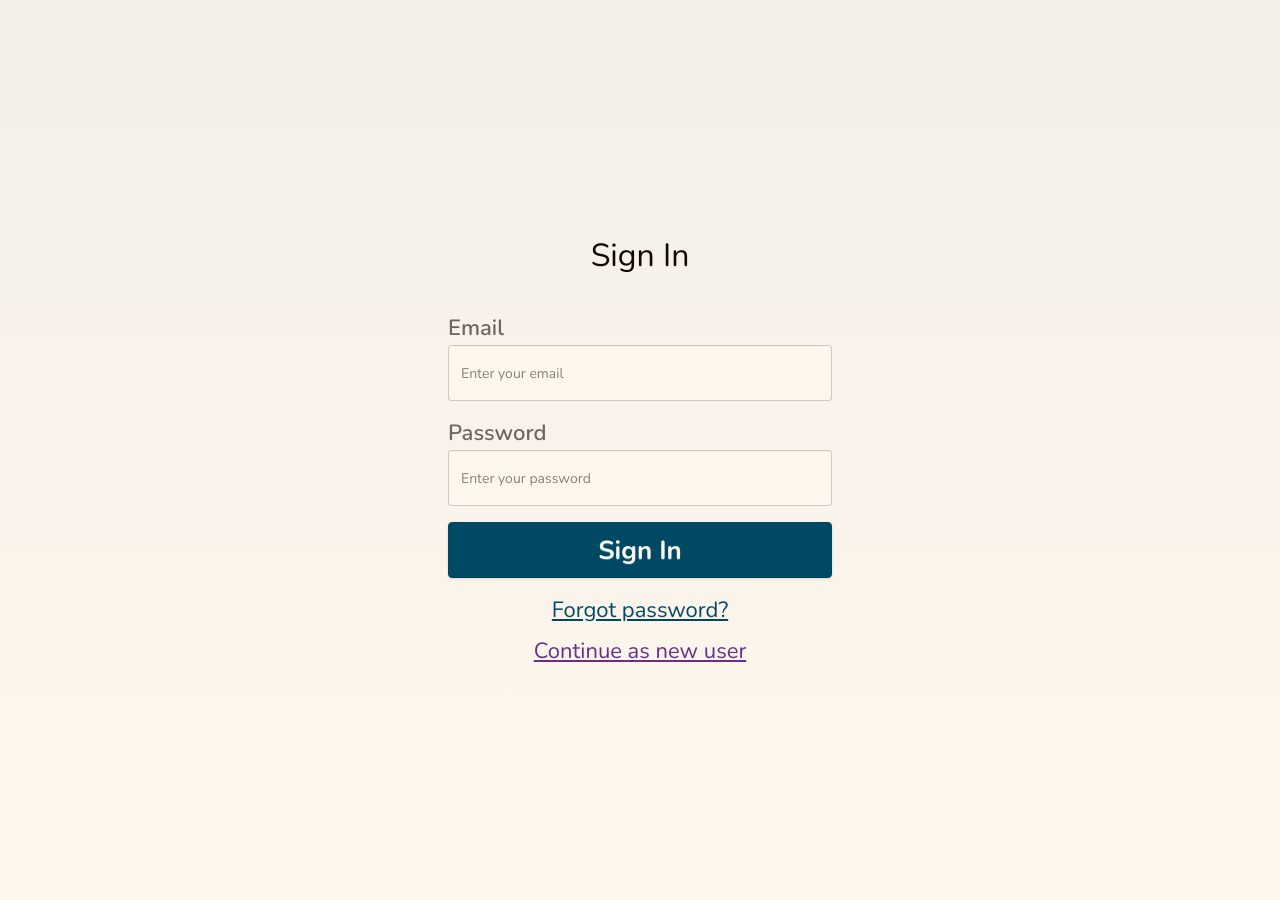
Test case: LoginForm › shows generic error for unknown errors
Type "test@example.com" into the field labelled "Email" at (640, 373), box [448,345,832,401]
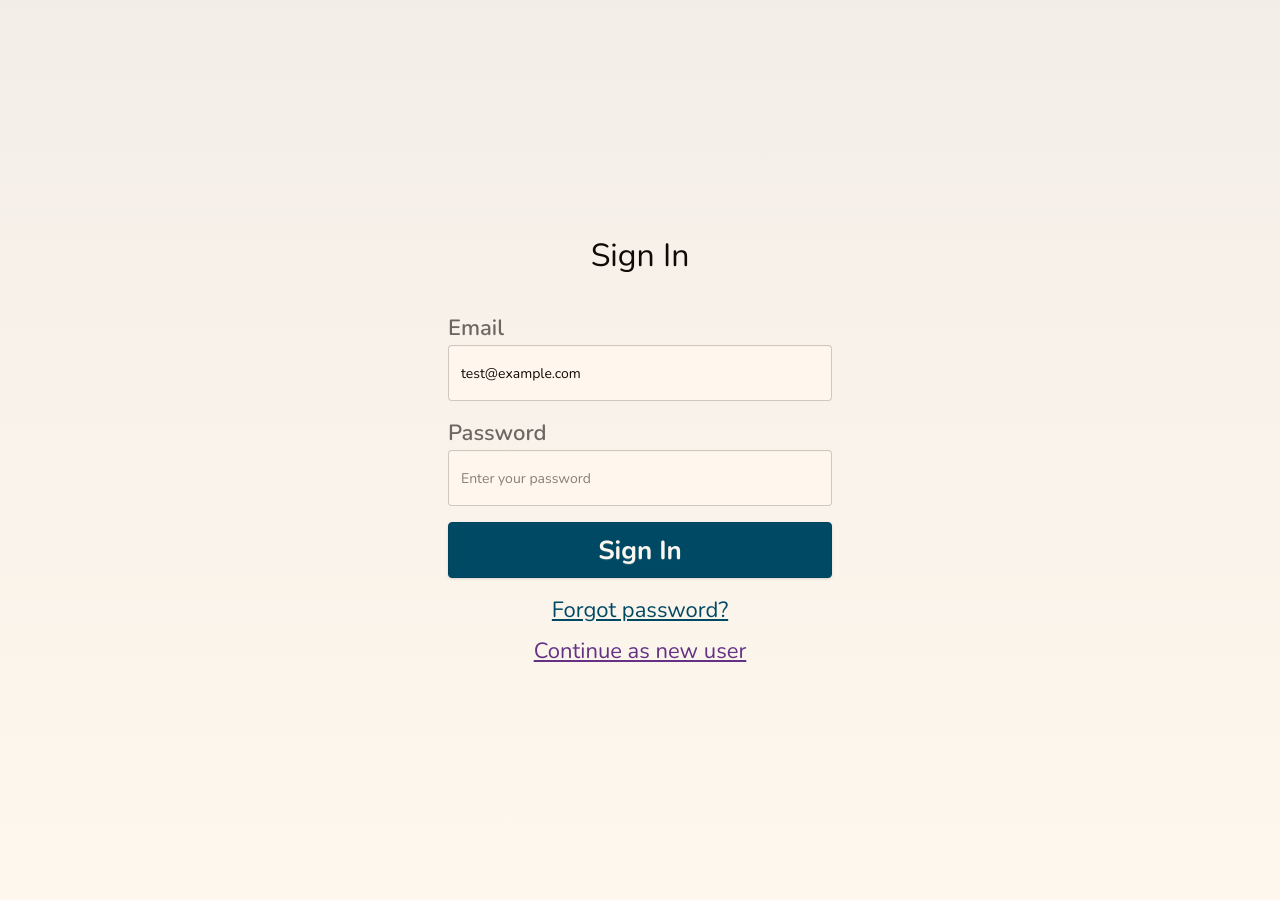
Type "pw" into the password field labelled "Password" at (640, 478), box [448,450,832,506]
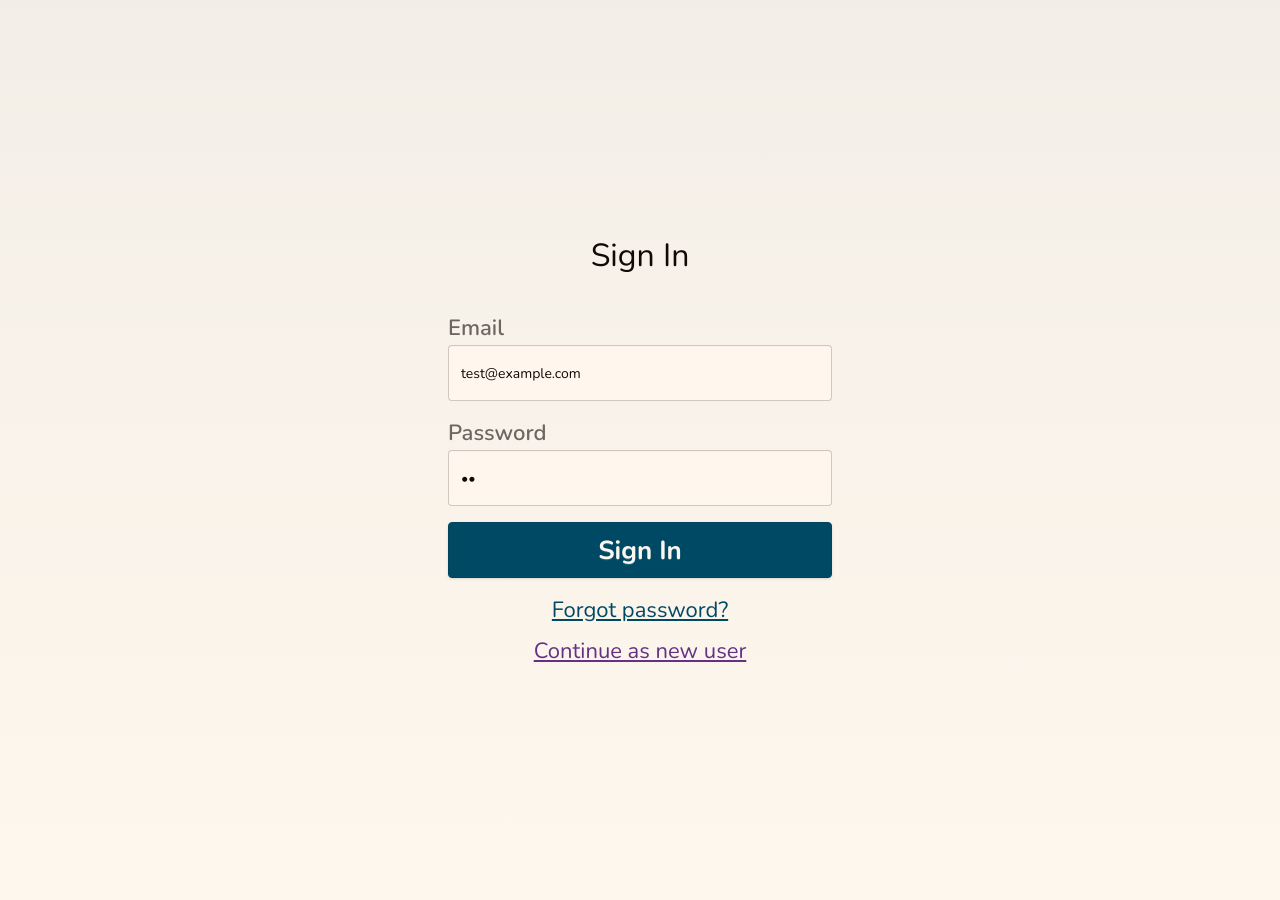
Click the button "Sign In" at (640, 550), box [448,522,832,578]
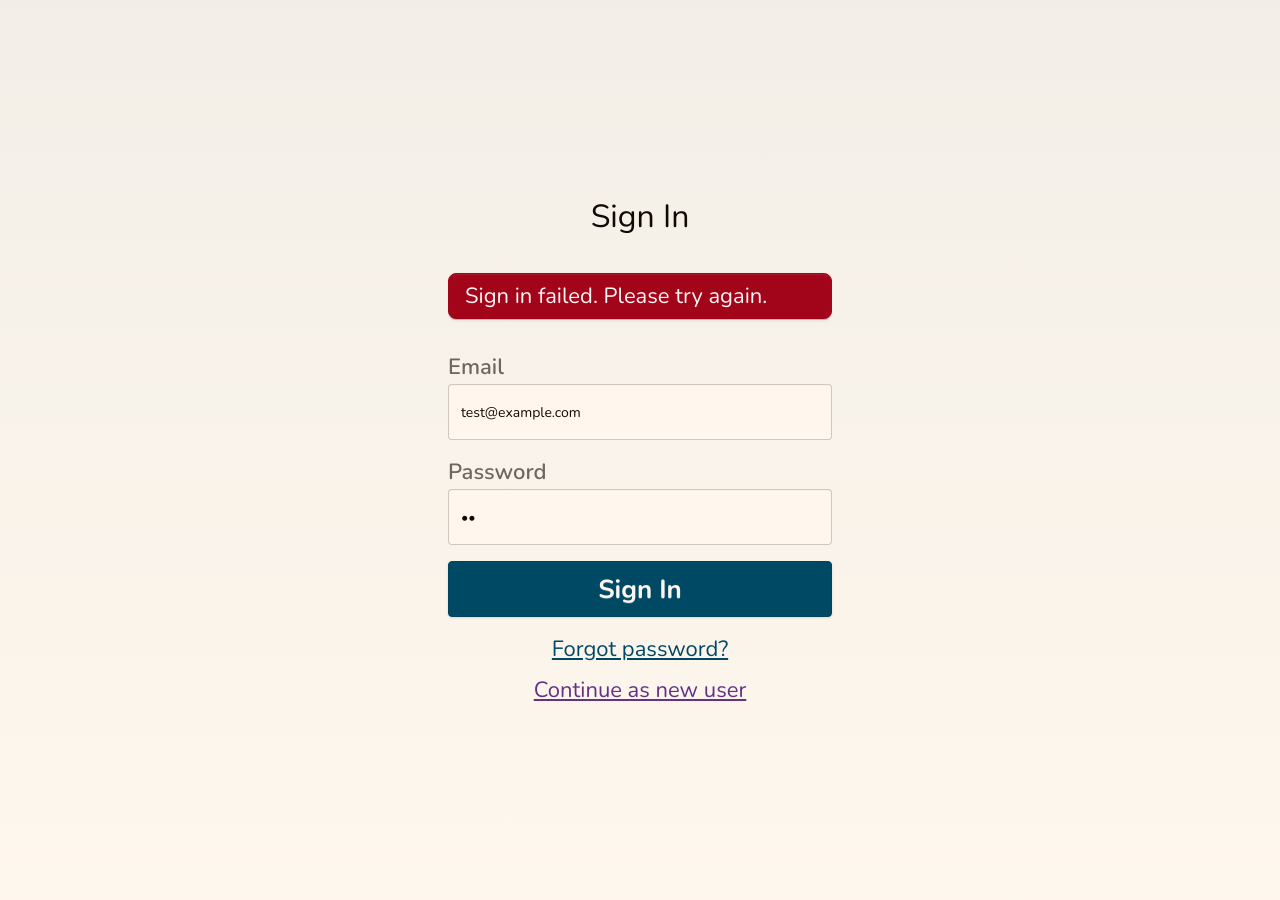
Check: the message shows "Sign in failed", box [465,281,767,311]
